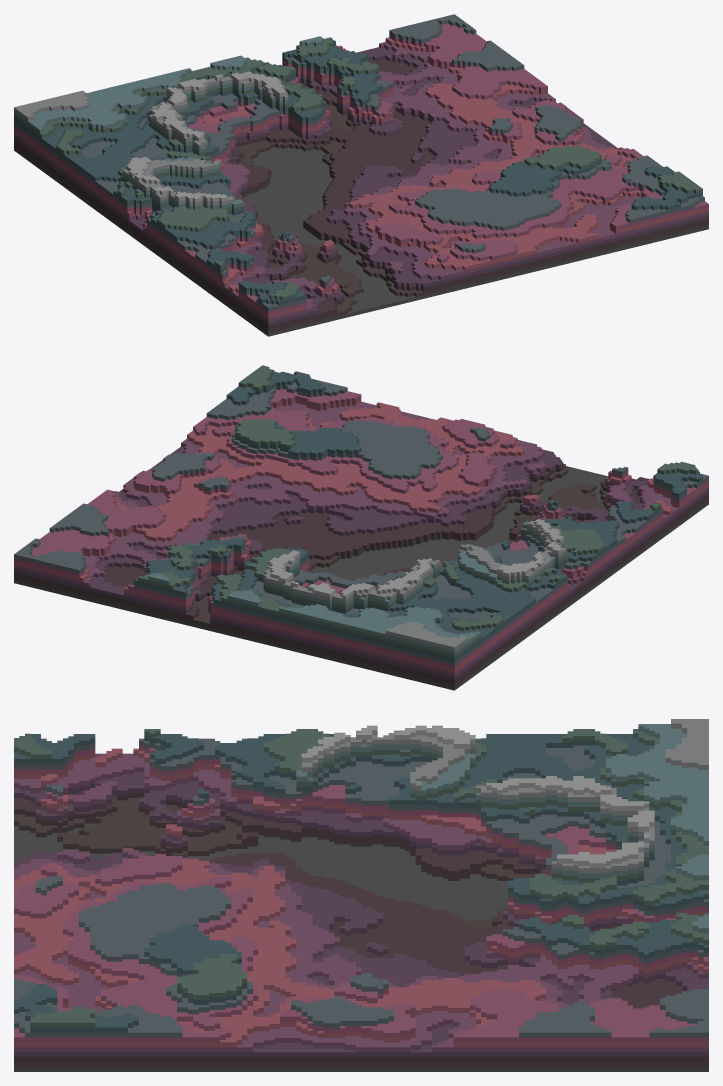
The model's file is coast-world-0-tutorial.obj.
The picture shows the model from 3 angles, top to bottom: view 1: azimuth 30°, elevation 25°; view 2: azimuth 150°, elevation 25°; view 3: azimuth 270°, elevation 25°; orthographic projection. The views are drawn at different scales.
Parts seen in each view (by area): view 1: tutorial; view 2: tutorial; view 3: tutorial.
Part boxes in pixels (bbox=[...]): tutorial: bbox=[14, 14, 708, 336]; tutorial: bbox=[14, 365, 708, 690]; tutorial: bbox=[14, 719, 708, 1071].
Size of the model in its own units: 12.8 by 1.3 by 12.8.
1 material, 1 textured.
